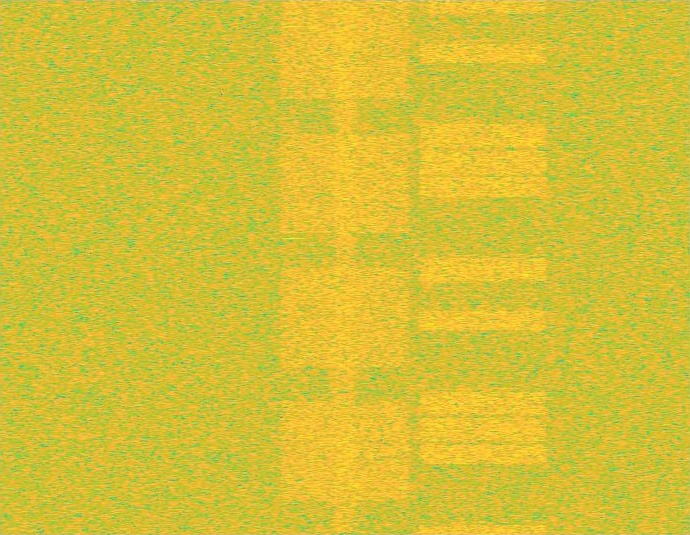5G: (276, 0, 414, 534)
DSSS: (329, 0, 361, 534)
LTE: (414, 0, 552, 534)
Radar: (286, 0, 300, 534)
